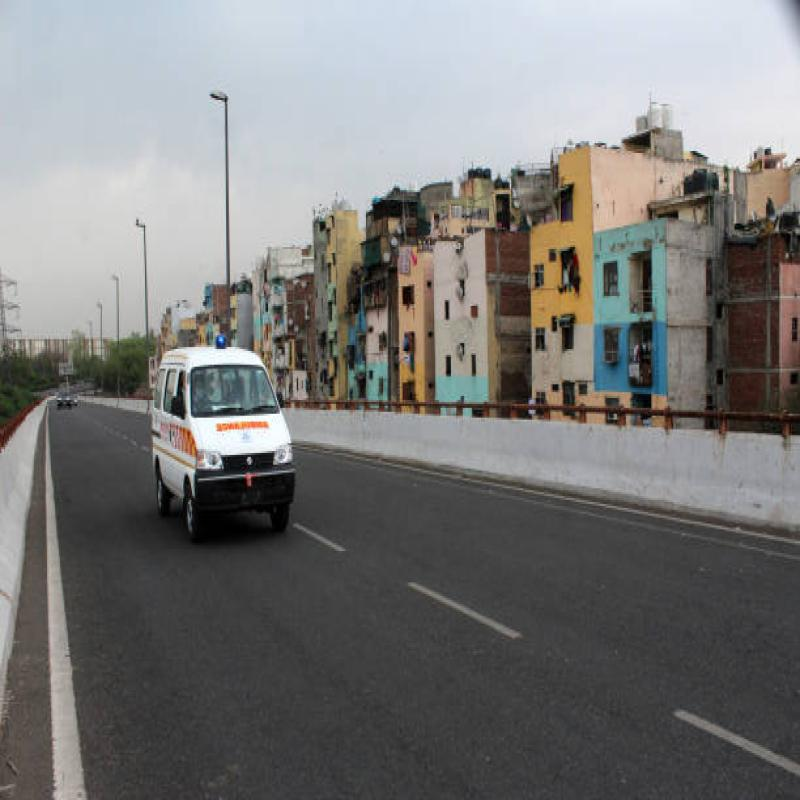AmbulanceSiren: (211, 326, 230, 350)
ambulance: (140, 327, 300, 530)
